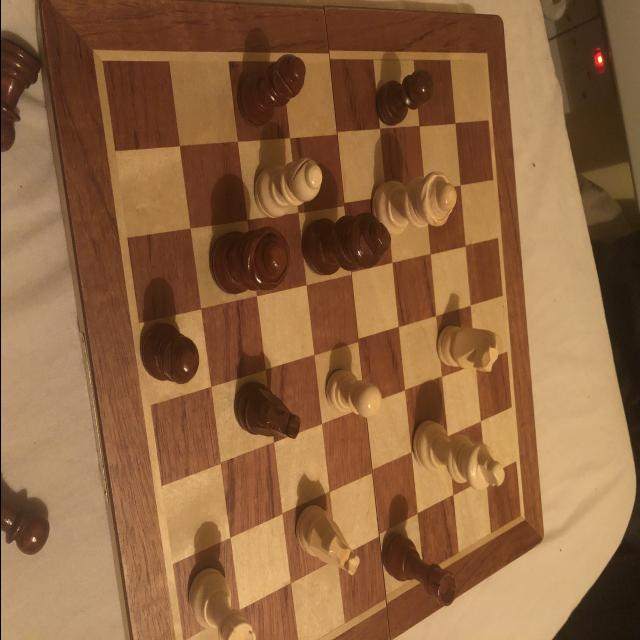black_bishop: (236, 53, 306, 130)
black_king: (302, 212, 391, 278)
black_knight: (230, 382, 302, 442)
black_pawn: (0, 493, 52, 563), (372, 71, 437, 126), (139, 324, 197, 384)
black_queen: (210, 229, 290, 293)
black_rook: (378, 530, 458, 602)
white_bishop: (255, 159, 323, 217)
white_king: (410, 416, 505, 490)
white_knight: (292, 502, 361, 576), (437, 320, 503, 378)
white_pawn: (324, 370, 381, 418)
white_queen: (372, 171, 457, 237)
white_rook: (187, 565, 257, 640)
